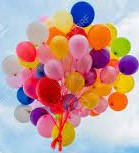Balloon: (71, 1, 94, 27), (53, 120, 75, 146), (89, 24, 111, 49), (37, 77, 60, 99), (27, 21, 49, 43), (68, 34, 88, 58), (36, 114, 56, 138), (54, 10, 74, 33), (119, 55, 139, 76), (16, 42, 36, 62), (44, 60, 64, 80), (113, 74, 134, 93), (108, 92, 128, 111), (50, 37, 68, 58), (66, 72, 84, 91), (100, 65, 118, 83), (112, 38, 131, 55), (15, 104, 32, 123)
